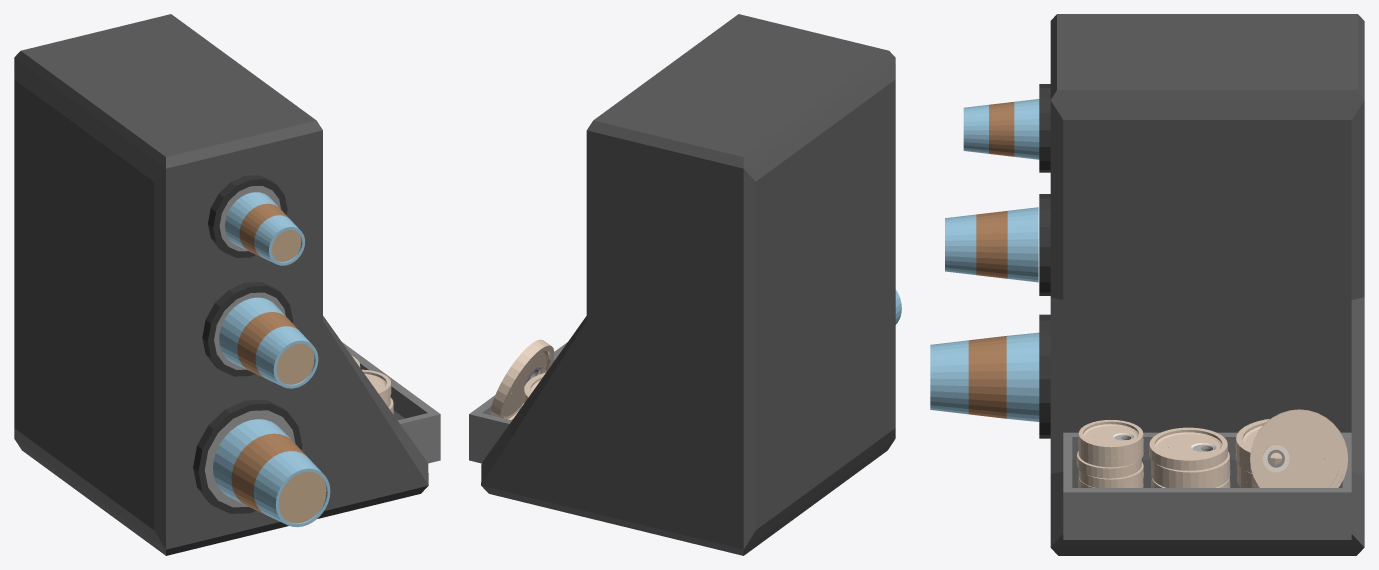
The model's file is Coffee Cups & Lids.fbx.
The picture shows the model from 3 angles, left to right: view 1: azimuth 30°, elevation 25°; view 2: azimuth 150°, elevation 25°; view 3: azimuth 270°, elevation 25°; orthographic projection. The views are drawn at different scales.
Visible parts, largest first — view 1: Coffee Cups & Lids; view 2: Coffee Cups & Lids; view 3: Coffee Cups & Lids.
Boxes of the visible parts, bbox=[...] form: Coffee Cups & Lids: bbox=[14, 14, 440, 555]; Coffee Cups & Lids: bbox=[469, 14, 901, 555]; Coffee Cups & Lids: bbox=[930, 14, 1364, 555].
Size of the model in its own units: 71.18 by 94.76 by 90.25.
1 material, 1 textured.
